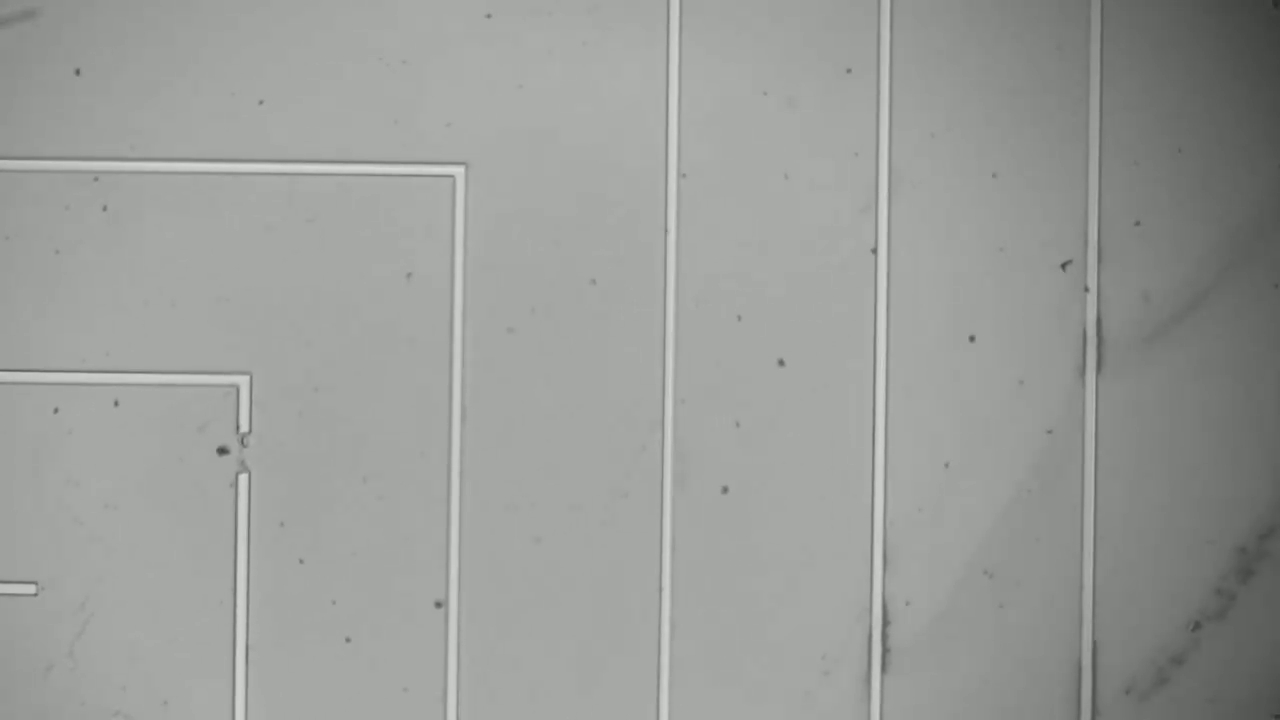open: (225, 412, 262, 491)
scratch: (1109, 503, 1277, 716)
